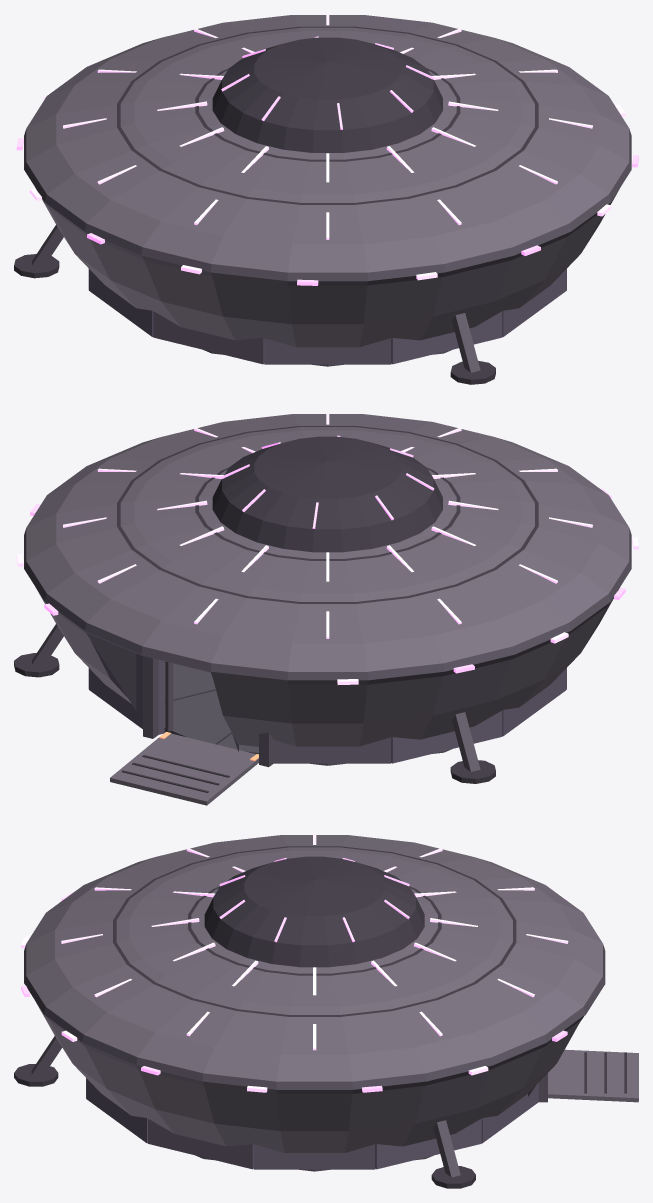
Rendered from ufo_g_scout.glb.
The picture shows the model from 3 angles, top to bottom: view 1: azimuth 30°, elevation 25°; view 2: azimuth 150°, elevation 25°; view 3: azimuth 270°, elevation 25°; orthographic projection. The views are drawn at different scales.
Parts seen in each view (by area): view 1: Hull; view 2: Hull; view 3: Hull.
Part boxes in pixels (x1,y1,x2,y2): Hull: [14, 14, 638, 384]; Hull: [14, 413, 638, 805]; Hull: [14, 834, 638, 1188].
Size of what is drawn, in the model's own units: 13.23 by 4.95 by 14.07.
